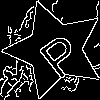P: (30, 24, 87, 81)
